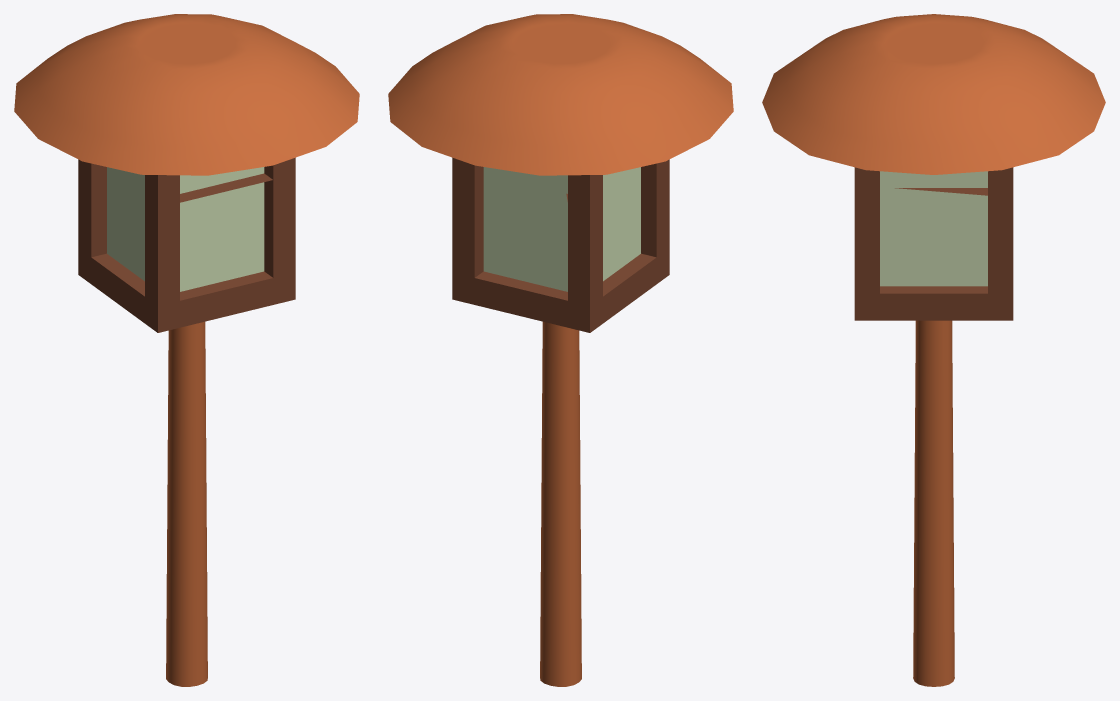
Rendered from lamp_01.fbx.
3 views of the same model, side by side, from view 1: azimuth 30°, elevation 25°; view 2: azimuth 150°, elevation 25°; view 3: azimuth 270°, elevation 25° (orthographic).
Visible parts, largest first — view 1: Cube.120; view 2: Cube.120; view 3: Cube.120.
Part boxes in pixels (bbox=[...]): Cube.120: bbox=[14, 14, 359, 686]; Cube.120: bbox=[388, 14, 733, 686]; Cube.120: bbox=[762, 14, 1105, 686].
Bounding box in the file's own units: 155 × 316 × 155.
